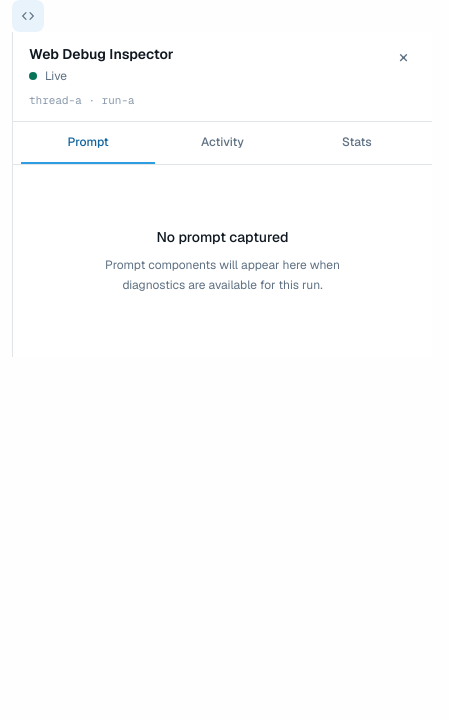
Test: stats tab formats aggregates and unavailable samples without zero fabrication
Click the tab with test id "inspector-tab-stats": click(357, 142) [290,122,424,164]
(page scrolled)
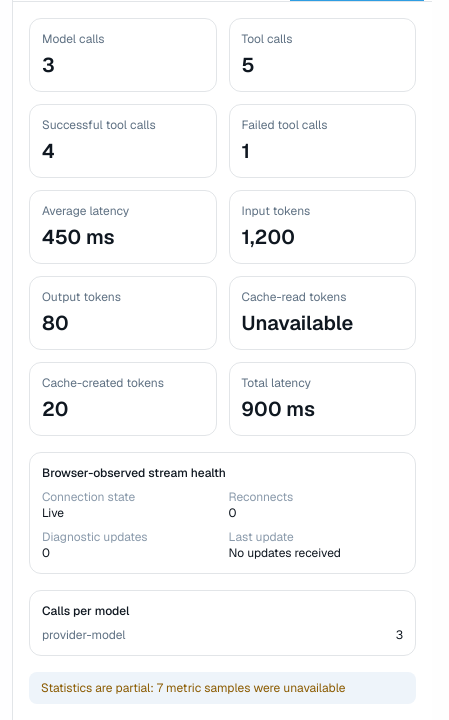
Expected: the element with test id "inspector-stats-content" is shown
Expected: the element with test id "inspector-stats-content" shows "1,200", [242,224,295,250]
Expected: the element with test id "inspector-stats-content" shows "450 ms", [42,224,115,250]
